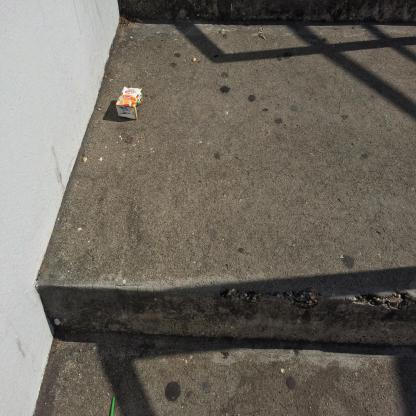karton: (116, 86, 144, 120)
plastik: (109, 395, 116, 415)
